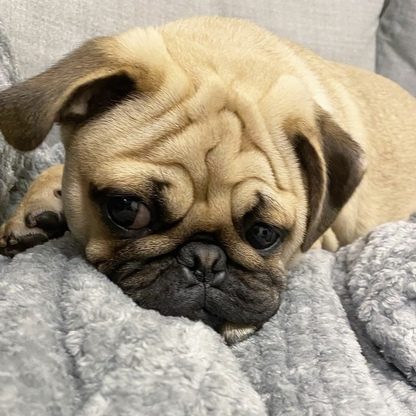Pug: (1, 6, 415, 341)
